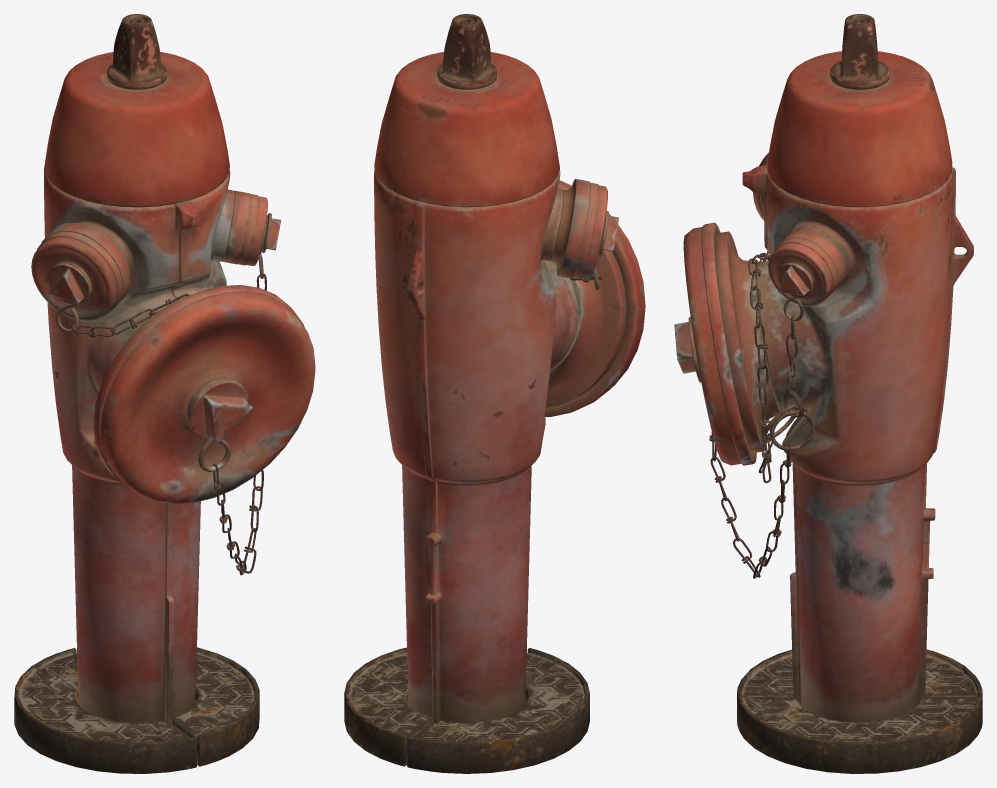
The model's file is hydrant.glb.
3 views of the same model, side by side, from view 1: azimuth 30°, elevation 25°; view 2: azimuth 150°, elevation 25°; view 3: azimuth 270°, elevation 25° (orthographic).
Parts seen in each view (by area): view 1: fire_hydrant_aged, fire_hydrant_cap_01_aged, fire_hydrant_cap_03_aged, fire_hydrant_chain_aged, fire_hydrant_cap_02_aged; view 2: fire_hydrant_aged, fire_hydrant_cap_01_aged, fire_hydrant_cap_03_aged; view 3: fire_hydrant_aged, fire_hydrant_cap_01_aged, fire_hydrant_chain_aged, fire_hydrant_cap_02_aged.
Boxes of the visible parts, x1,y1,x2,y2 form: fire_hydrant_aged: [14, 14, 259, 773]; fire_hydrant_cap_01_aged: [93, 285, 315, 503]; fire_hydrant_cap_03_aged: [31, 231, 122, 321]; fire_hydrant_chain_aged: [56, 215, 267, 575]; fire_hydrant_cap_02_aged: [237, 194, 280, 265]; fire_hydrant_aged: [344, 14, 626, 773]; fire_hydrant_cap_01_aged: [545, 180, 645, 416]; fire_hydrant_cap_03_aged: [573, 182, 618, 279]; fire_hydrant_aged: [715, 14, 982, 773]; fire_hydrant_cap_01_aged: [674, 222, 756, 465]; fire_hydrant_chain_aged: [709, 250, 814, 578]; fire_hydrant_cap_02_aged: [768, 238, 837, 306].
Size of the model in its own units: 0.2746 by 0.7995 by 0.3177.
1 material, 1 textured.
